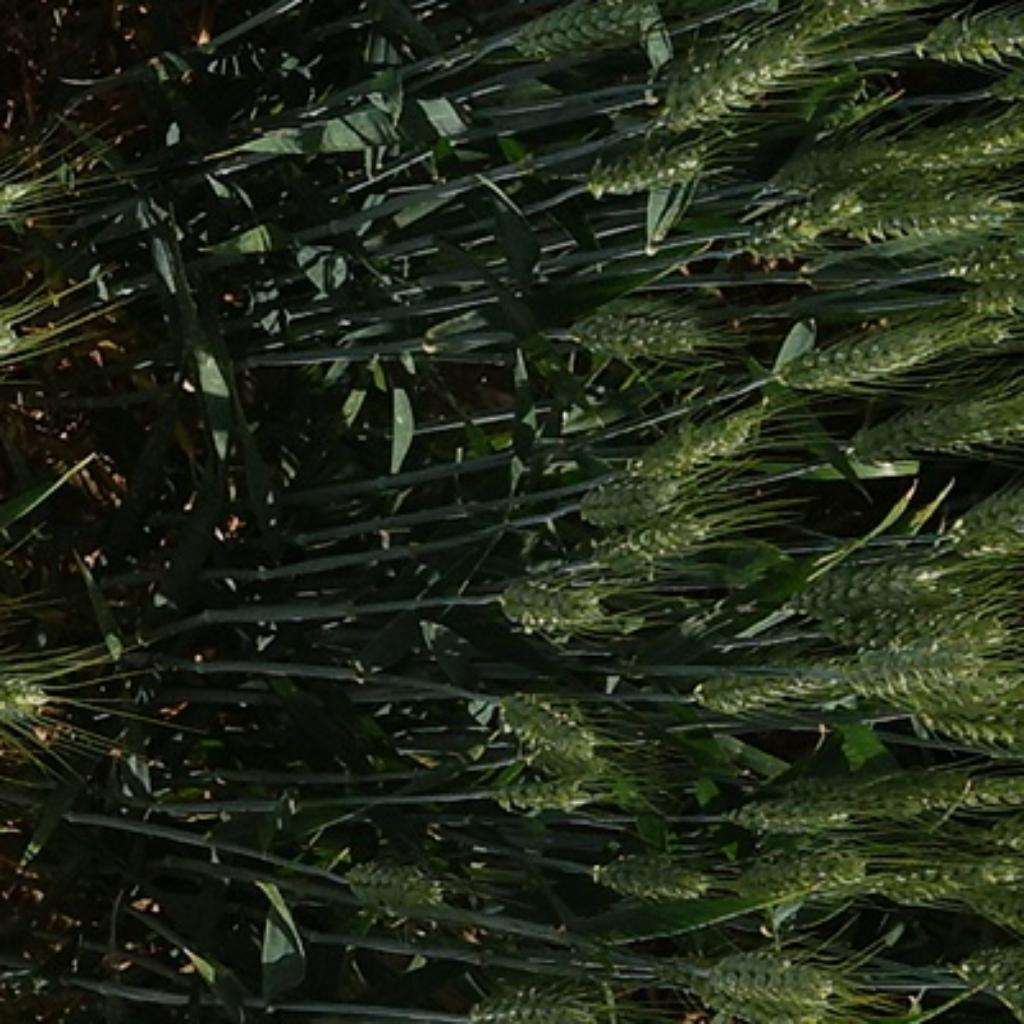0-0: (0, 153, 695, 737), (672, 37, 971, 394), (782, 547, 962, 637), (704, 186, 867, 271), (627, 396, 778, 478), (844, 394, 1018, 465), (488, 683, 609, 778), (683, 650, 849, 719), (563, 294, 716, 366), (499, 0, 655, 67), (724, 838, 867, 910), (488, 555, 609, 637), (862, 760, 1015, 819), (742, 768, 878, 834), (837, 604, 1011, 655), (913, 102, 1021, 184), (593, 512, 719, 578), (698, 947, 834, 1008), (583, 839, 711, 903), (882, 845, 1020, 904), (780, 138, 911, 199), (844, 645, 985, 696), (855, 194, 1000, 243), (337, 857, 450, 917), (916, 10, 1024, 71), (693, 975, 819, 1024), (933, 226, 1020, 289), (944, 488, 1021, 558), (903, 698, 1021, 742), (471, 985, 601, 1024), (578, 476, 686, 522), (494, 775, 596, 814), (1, 157, 51, 234), (0, 290, 45, 374), (814, 0, 885, 51), (952, 947, 1024, 993), (957, 281, 1024, 324), (971, 893, 1024, 944), (965, 810, 1021, 845)
